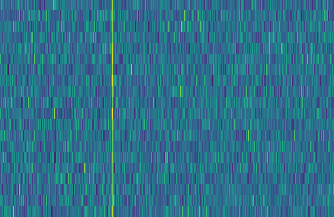signal: (105, 0, 114, 217)
